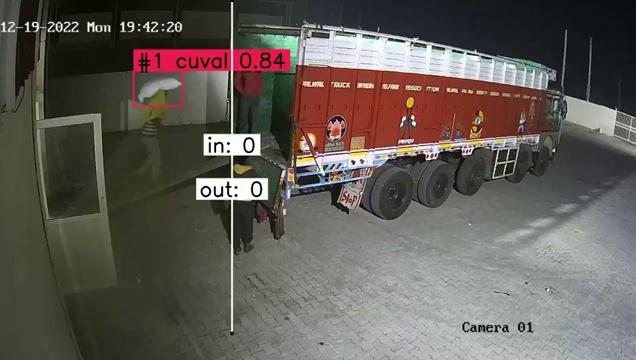karung: (136, 74, 180, 104)
